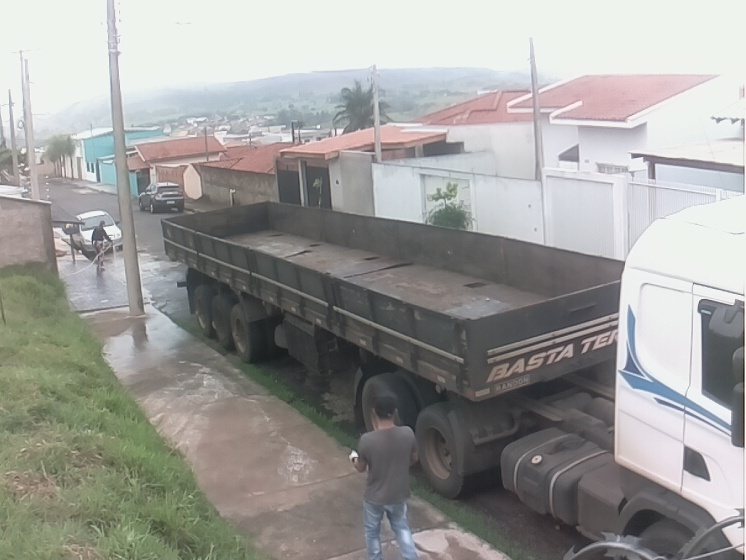person: (349, 393, 423, 560), (92, 221, 114, 269)
